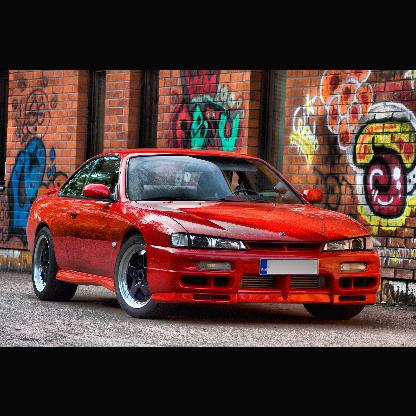Nissan 240SX Coupe 1998: (27, 148, 383, 320)
